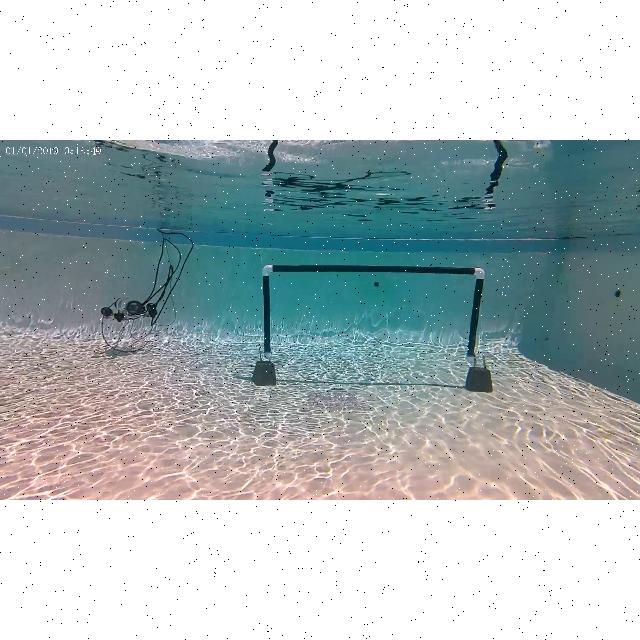prequal gate: (264, 264, 484, 360)
prequal gate leg l: (261, 264, 275, 358)
prequal gate leg r: (467, 266, 485, 360)
